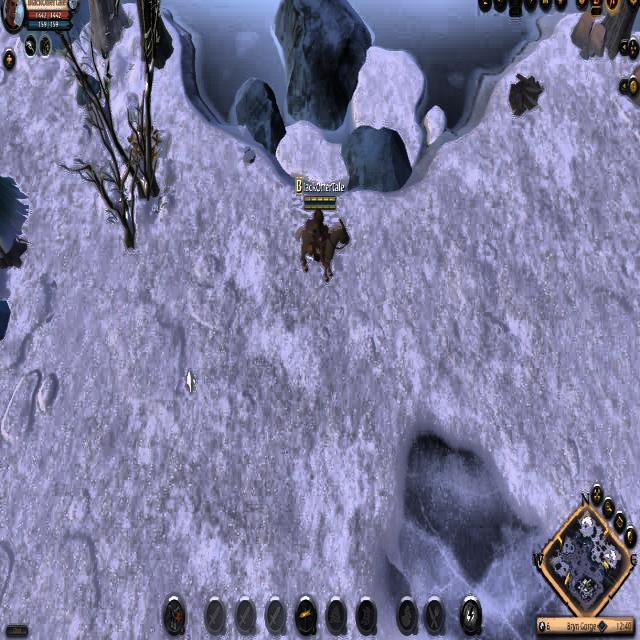limestone: (569, 11, 609, 64)
